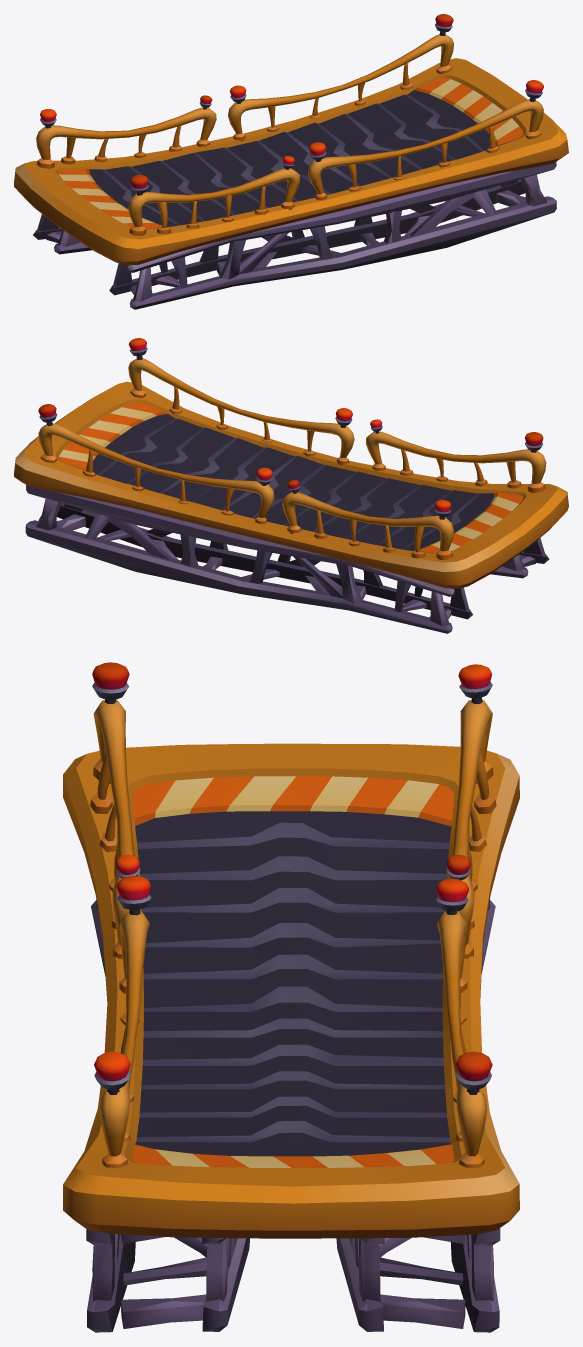
File: SM_Platform_01.fbx
3 renders of one model, top to bottom at view 1: azimuth 30°, elevation 25°; view 2: azimuth 150°, elevation 25°; view 3: azimuth 270°, elevation 25°, orthographic. The views are drawn at different scales.
Parts seen in each view (by area): view 1: SM_Platform_01; view 2: SM_Platform_01; view 3: SM_Platform_01.
Boxes of the visible parts, bbox=[...] form: SM_Platform_01: bbox=[14, 14, 568, 309]; SM_Platform_01: bbox=[14, 338, 568, 633]; SM_Platform_01: bbox=[63, 662, 519, 1332].
Bounding box in the file's own units: 11.19 × 3.4 × 4.71.
